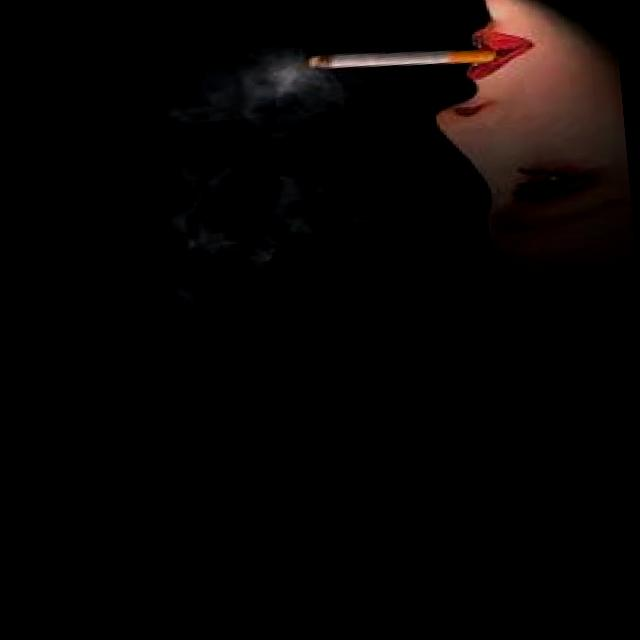cigarette: (305, 33, 502, 80)
